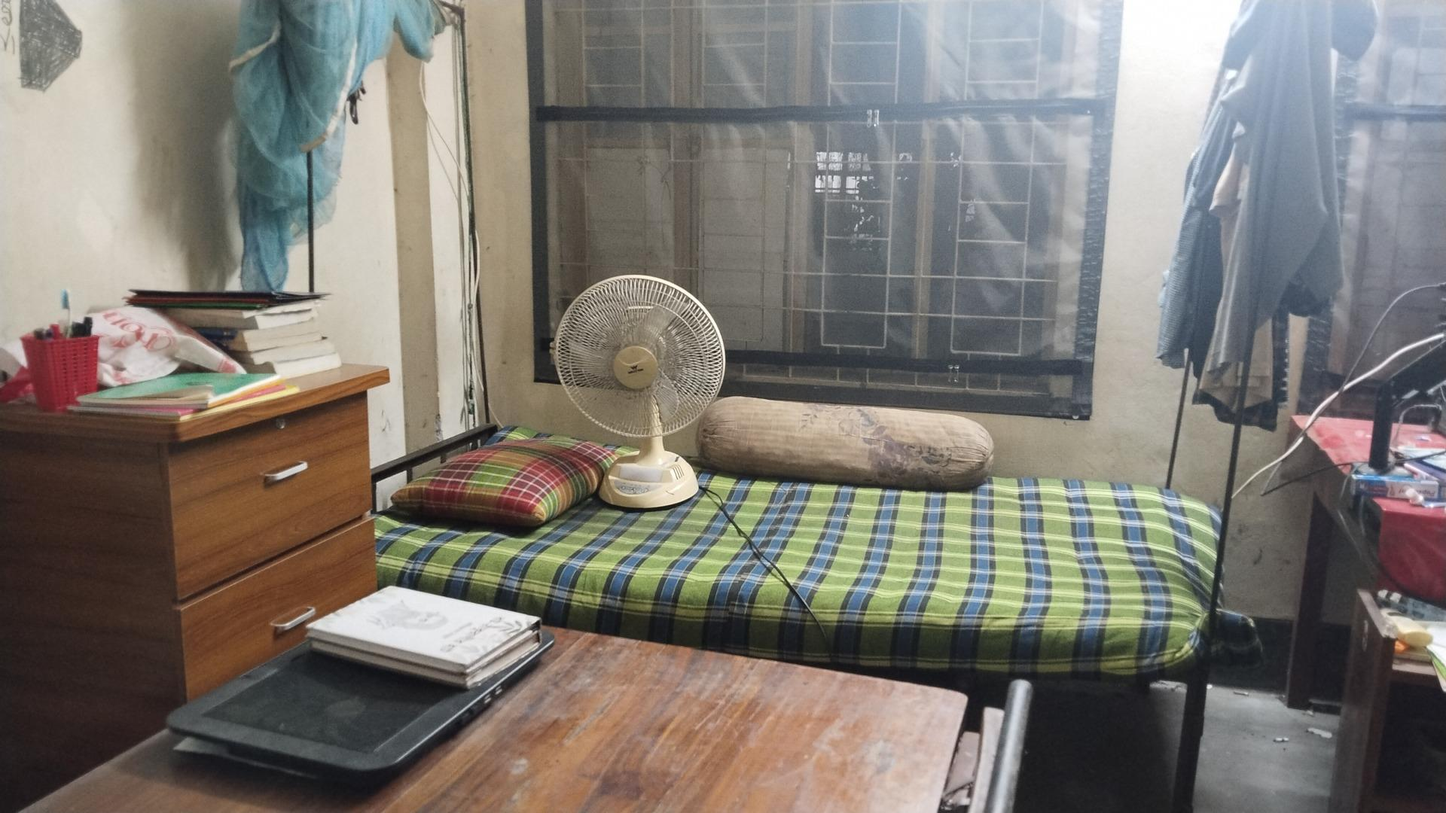Book: (304, 586, 545, 689)
Fan: (560, 273, 725, 507)
Pen Stand: (17, 322, 104, 413)
Pillow: (701, 397, 992, 489), (389, 447, 619, 521)
